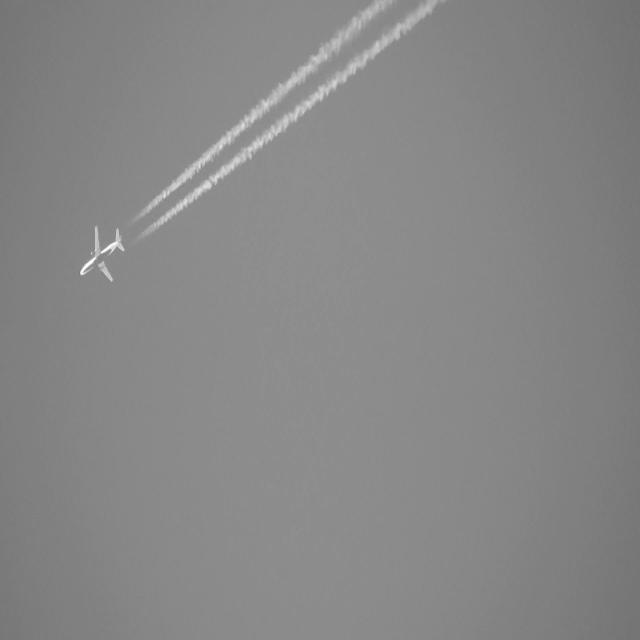aeroplane: (77, 218, 126, 289)
